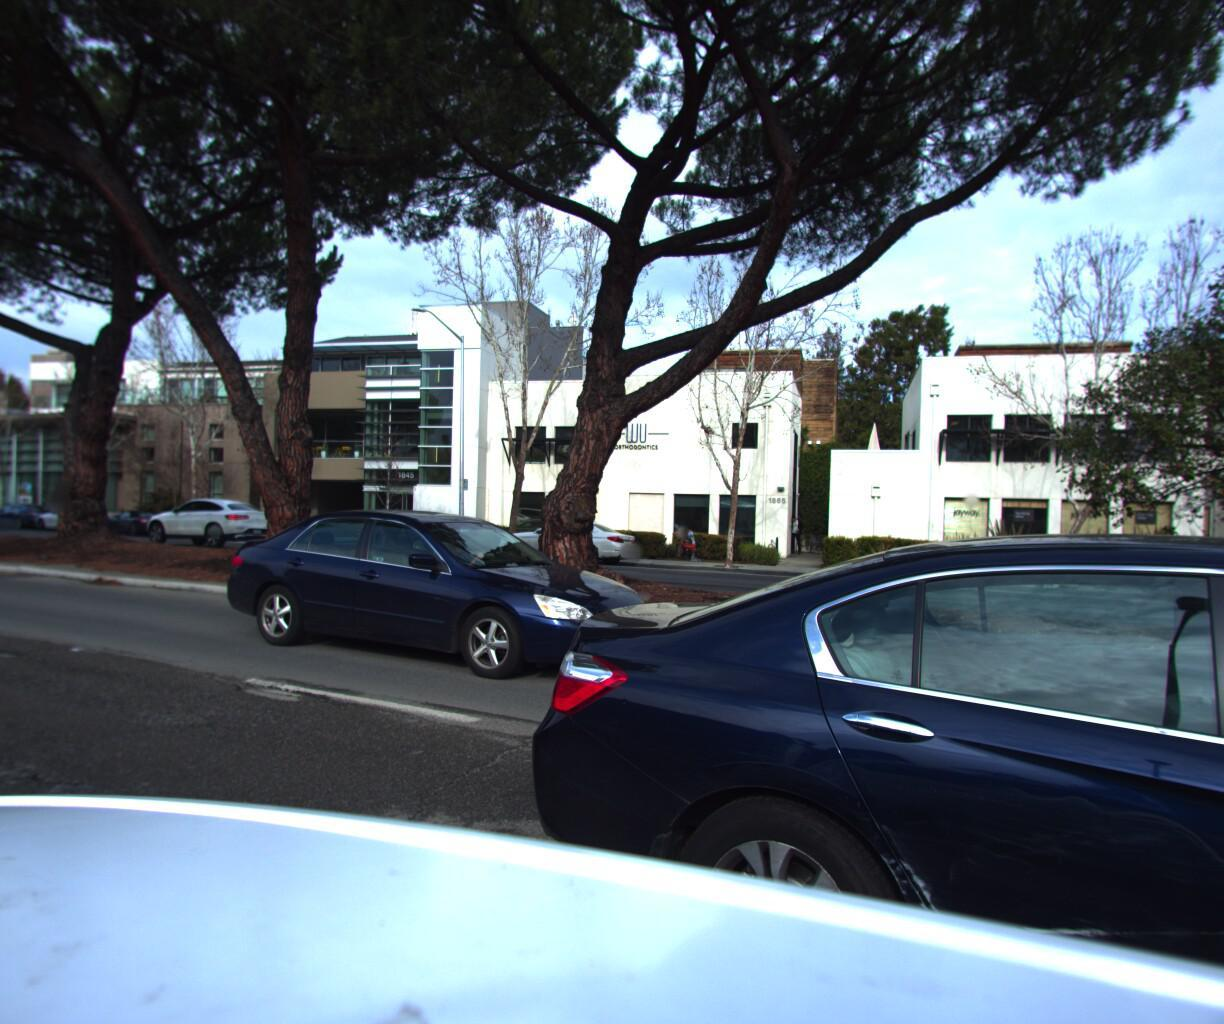car: (450, 520, 1224, 1024), (209, 504, 671, 692), (485, 513, 644, 564), (144, 495, 284, 548), (1135, 536, 1224, 611), (27, 499, 121, 532), (91, 505, 179, 535), (0, 497, 66, 528)
